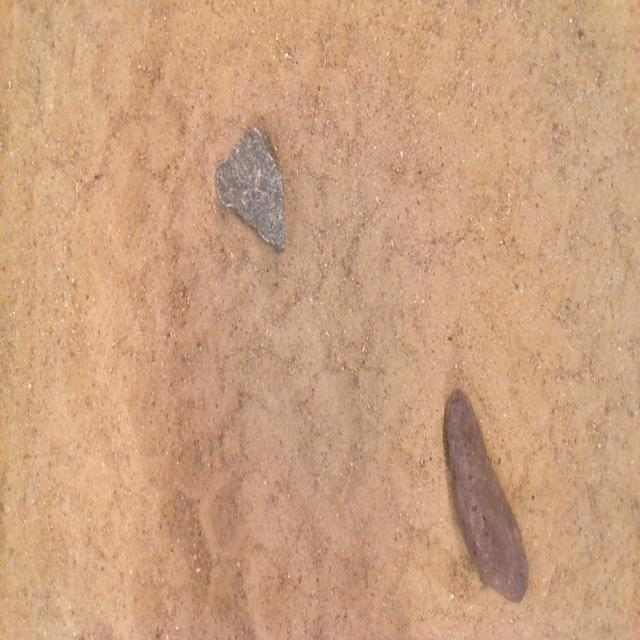rock: (444, 391, 528, 601), (216, 129, 284, 249)
